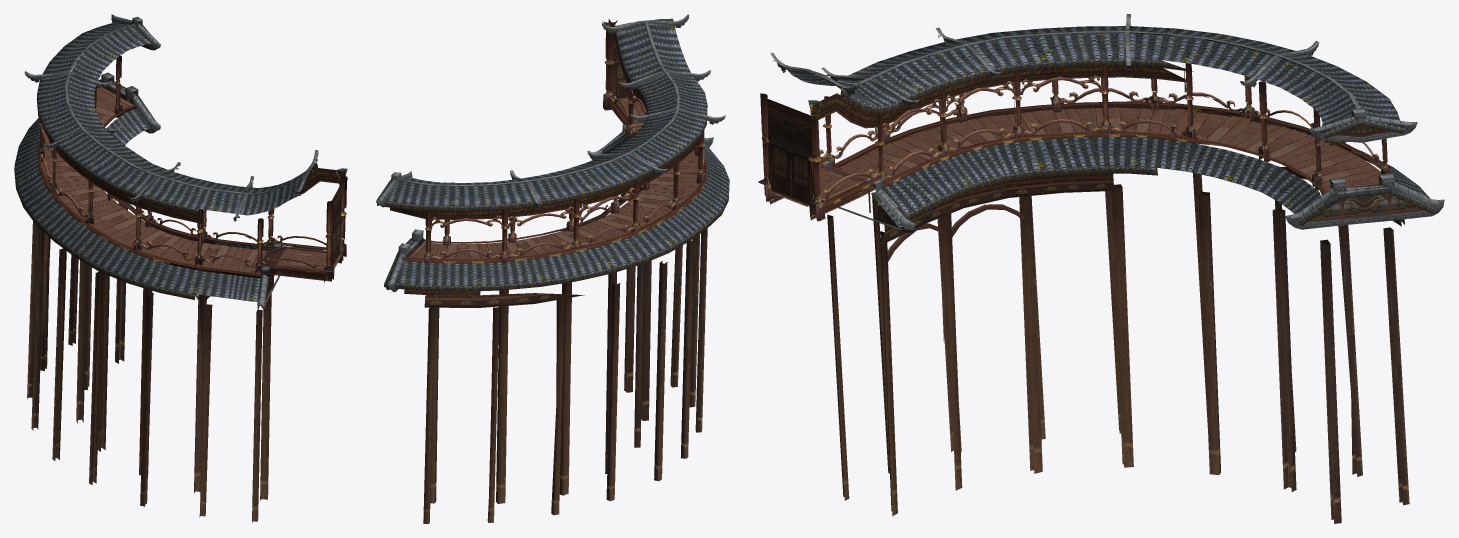
The model's file is S2_Build_XSC092_H1.FBX.
The picture shows the model from 3 angles, left to right: view 1: azimuth 30°, elevation 25°; view 2: azimuth 150°, elevation 25°; view 3: azimuth 270°, elevation 25°; orthographic projection. The views are drawn at different scales.
Visible parts, largest first — view 1: S2_Build_XSC092_H1; view 2: S2_Build_XSC092_H1; view 3: S2_Build_XSC092_H1.
Boxes of the visible parts, left/top/right/bottom form: S2_Build_XSC092_H1: left=14, top=14, right=347, bottom=522; S2_Build_XSC092_H1: left=376, top=14, right=729, bottom=523; S2_Build_XSC092_H1: left=758, top=14, right=1444, bottom=523.
Size of the model in its own units: 5265 by 9046 by 12291.
